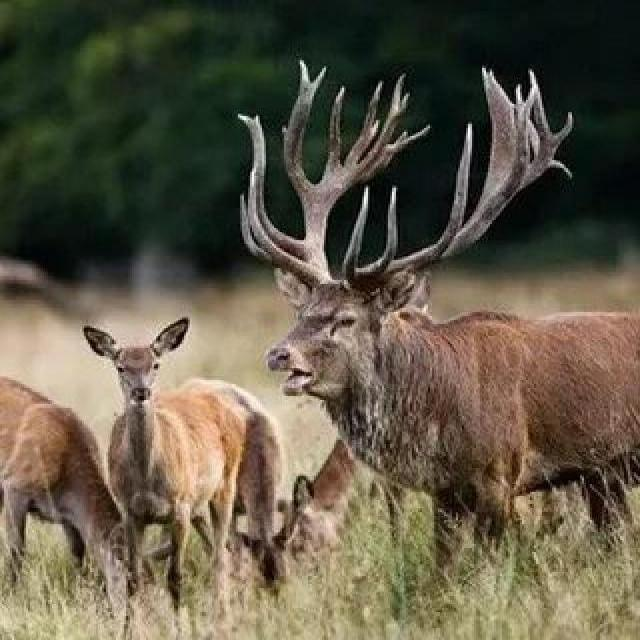deer: (196, 79, 640, 565), (82, 270, 301, 590)
